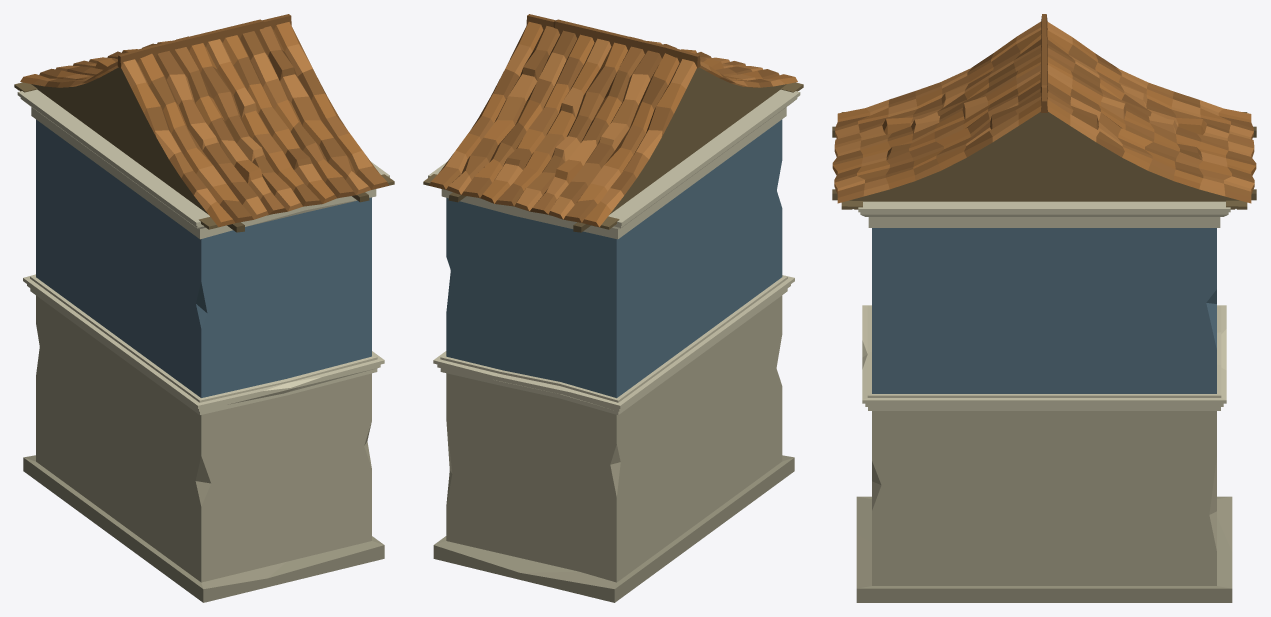
The model's file is BuildingBase_4.fbx.
3 views of the same model, side by side, from view 1: azimuth 30°, elevation 25°; view 2: azimuth 150°, elevation 25°; view 3: azimuth 270°, elevation 25° (orthographic). The views are drawn at different scales.
Visible parts, largest first — view 1: BuildingBase_4; view 2: BuildingBase_4; view 3: BuildingBase_4.
Boxes of the visible parts, x1,y1,x2,y2 form: BuildingBase_4: (14,14,394,602); BuildingBase_4: (423,14,803,602); BuildingBase_4: (832,14,1256,602).
Bounding box in the file's own units: 371 × 882 × 677.
